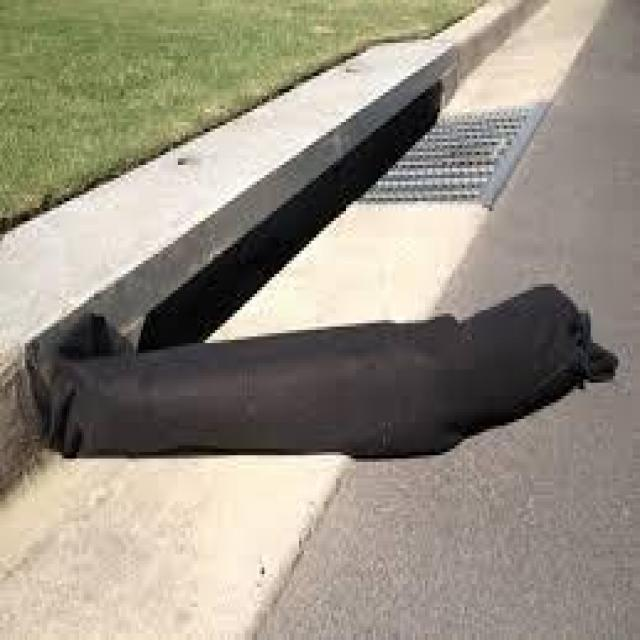curb: (1, 163, 181, 445), (193, 44, 406, 277), (424, 1, 544, 79)
